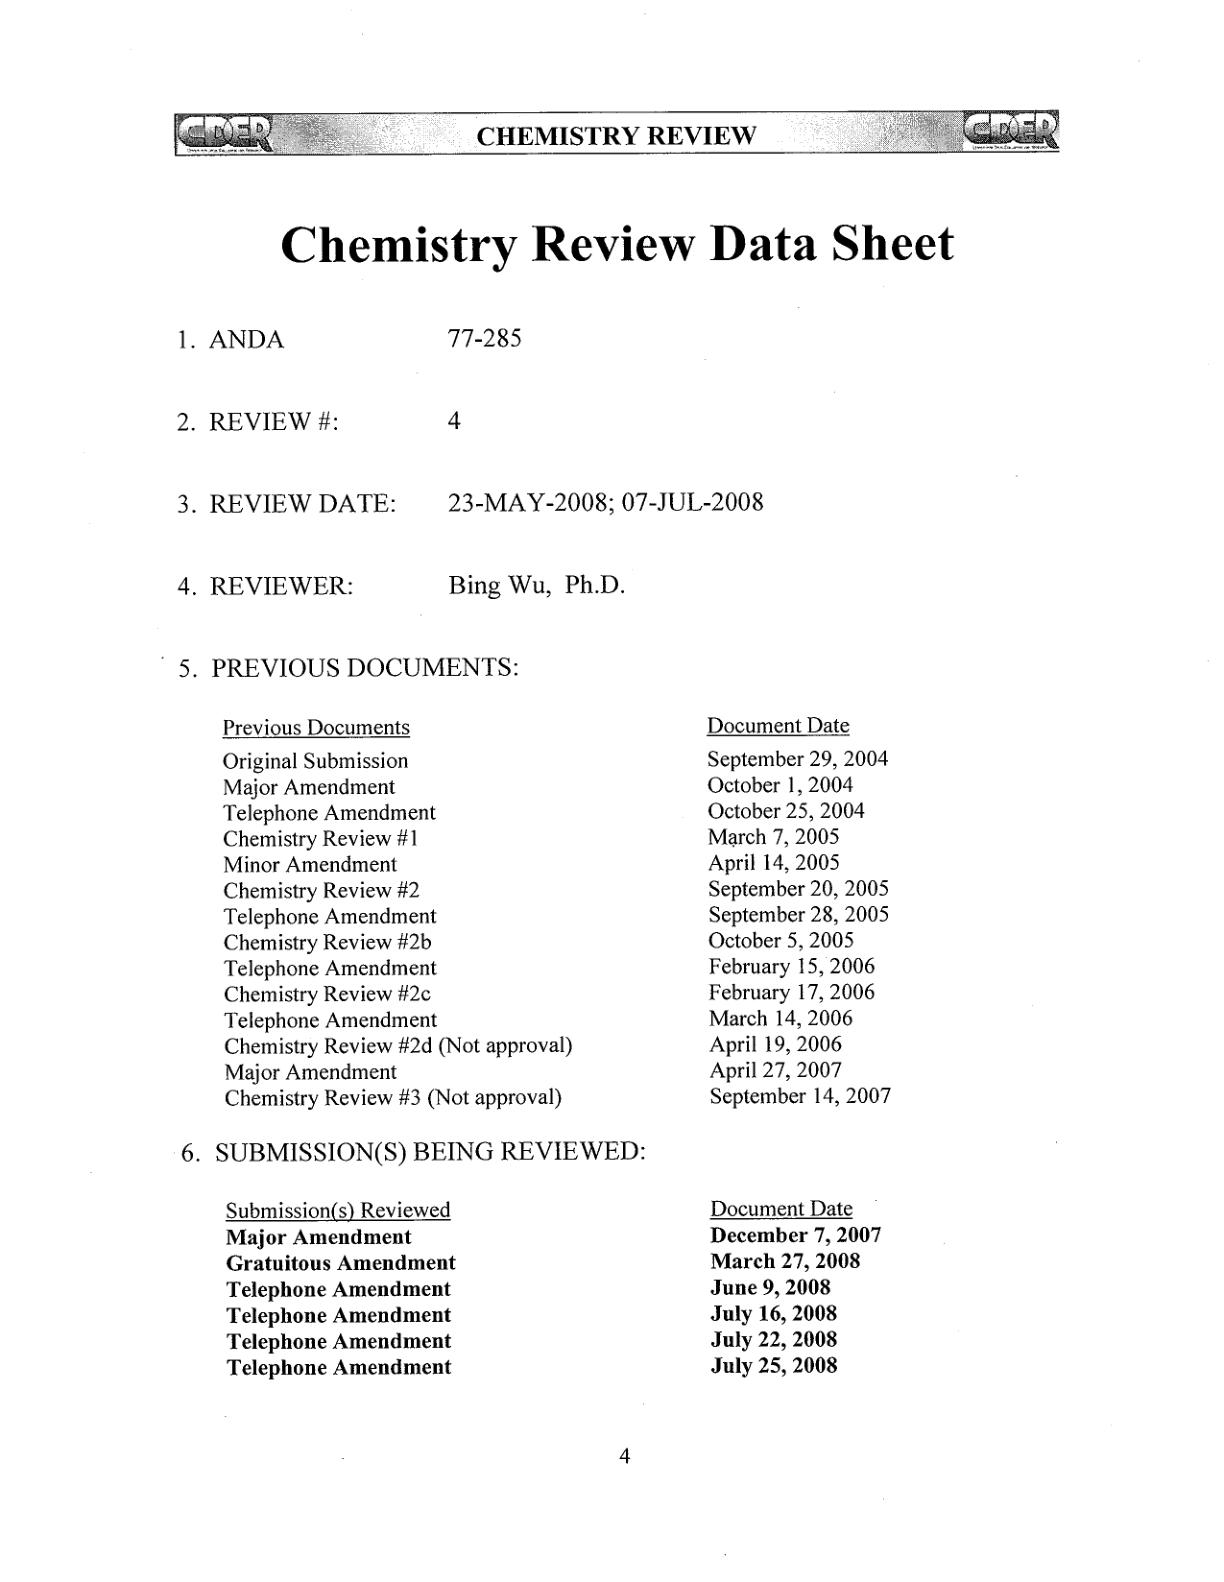nolines: (213, 711, 898, 1115), (170, 316, 772, 684), (214, 1189, 887, 1380)
